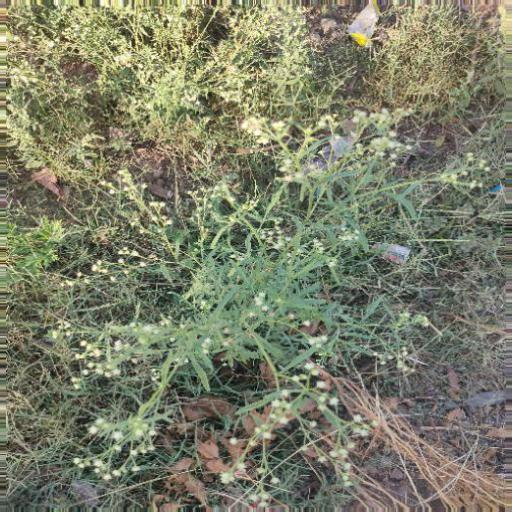weed: (15, 3, 443, 478)
